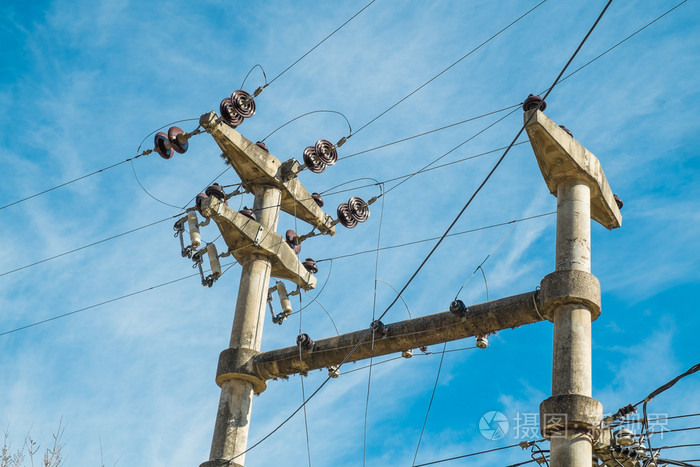insulator: (219, 89, 256, 126), (150, 125, 187, 159), (303, 139, 340, 173), (338, 197, 368, 231)
